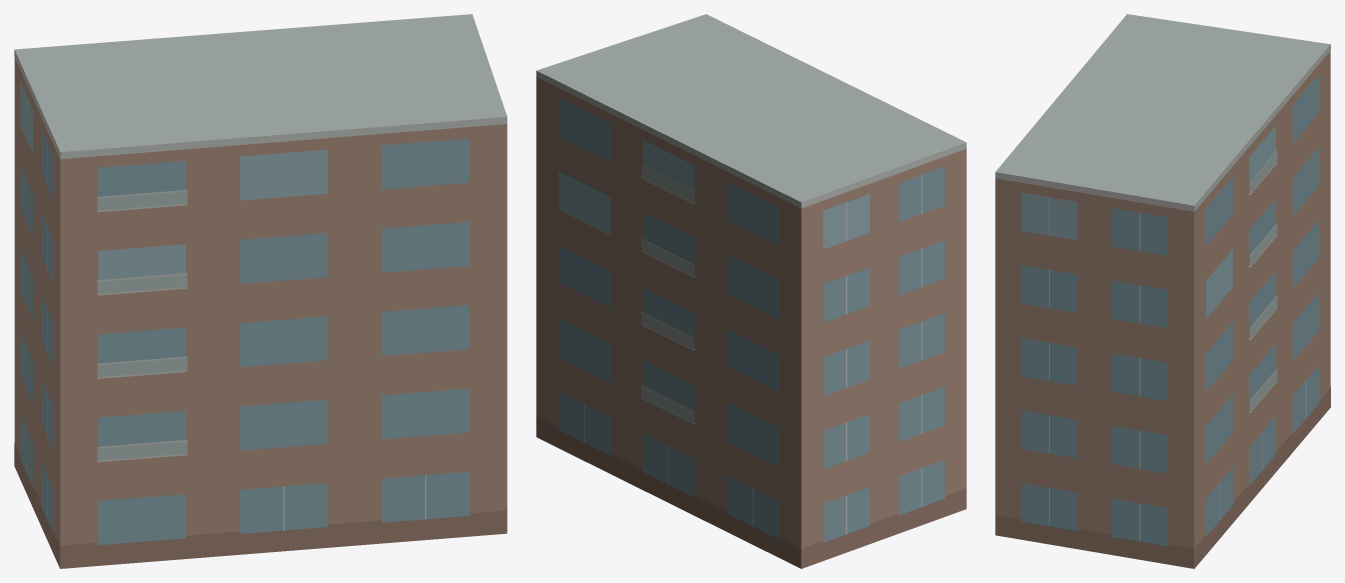
The model's file is survey-upis-32851171.glb.
3 views of the same model, side by side, from view 1: azimuth 30°, elevation 25°; view 2: azimuth 150°, elevation 25°; view 3: azimuth 270°, elevation 25° (orthographic). The views are drawn at different scales.
Visible parts, largest first — view 1: survey-upis-32851171.tmp; view 2: survey-upis-32851171.tmp; view 3: survey-upis-32851171.tmp.
Part boxes in pixels (x1,y1,x2,y2): survey-upis-32851171.tmp: [14, 14, 507, 568]; survey-upis-32851171.tmp: [536, 14, 966, 568]; survey-upis-32851171.tmp: [995, 14, 1330, 568].
Bounding box in the file's own units: 16.31 × 14.4 × 12.06.
